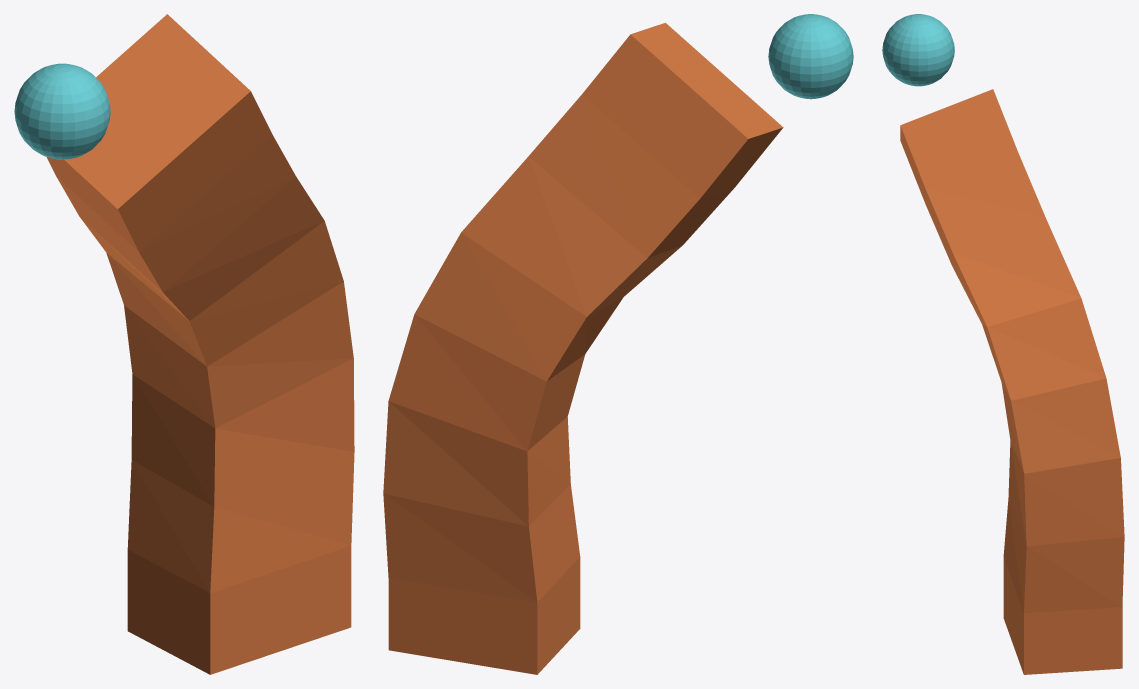
Rendered from target-pose.glb.
3 renders of one model, left to right at view 1: azimuth 30°, elevation 25°; view 2: azimuth 150°, elevation 25°; view 3: azimuth 270°, elevation 25°, orthographic. The views are drawn at different scales.
Parts seen in each view (by area): view 1: Flexible column · 当前姿态, Target orbit; view 2: Flexible column · 当前姿态, Target orbit; view 3: Flexible column · 当前姿态, Target orbit.
Boxes of the visible parts, x1,y1,x2,y2 form: Flexible column · 当前姿态: (46,14,354,674); Target orbit: (14,63,110,159); Flexible column · 当前姿态: (383,23,783,674); Target orbit: (768,14,853,99); Flexible column · 当前姿态: (900,89,1124,674); Target orbit: (882,14,954,86).
Bounding box in the file's own units: 1.56 × 2.56 × 1.07.
